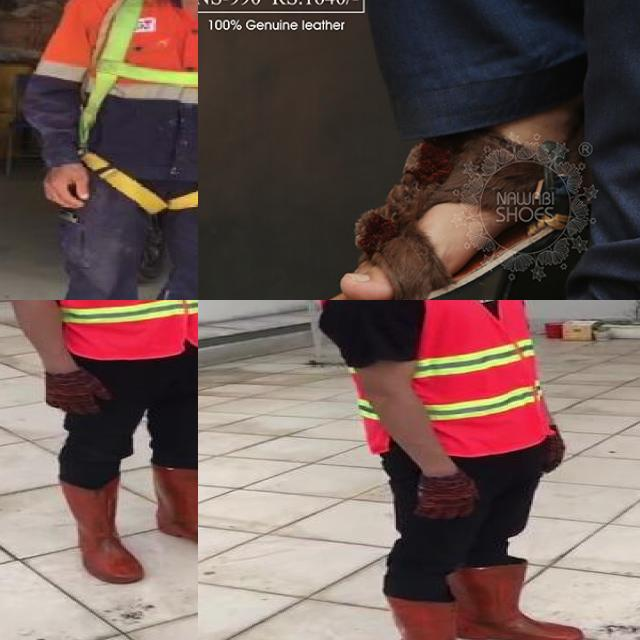boots: (449, 564, 580, 640), (58, 475, 146, 586), (382, 592, 524, 640), (154, 464, 198, 558)
hand_glove: (44, 368, 121, 414), (416, 475, 480, 519)
hand_noglove: (39, 154, 93, 208)
person: (304, 300, 604, 640), (0, 300, 198, 598), (33, 0, 198, 300)
vest: (314, 300, 554, 454), (51, 300, 198, 360)
